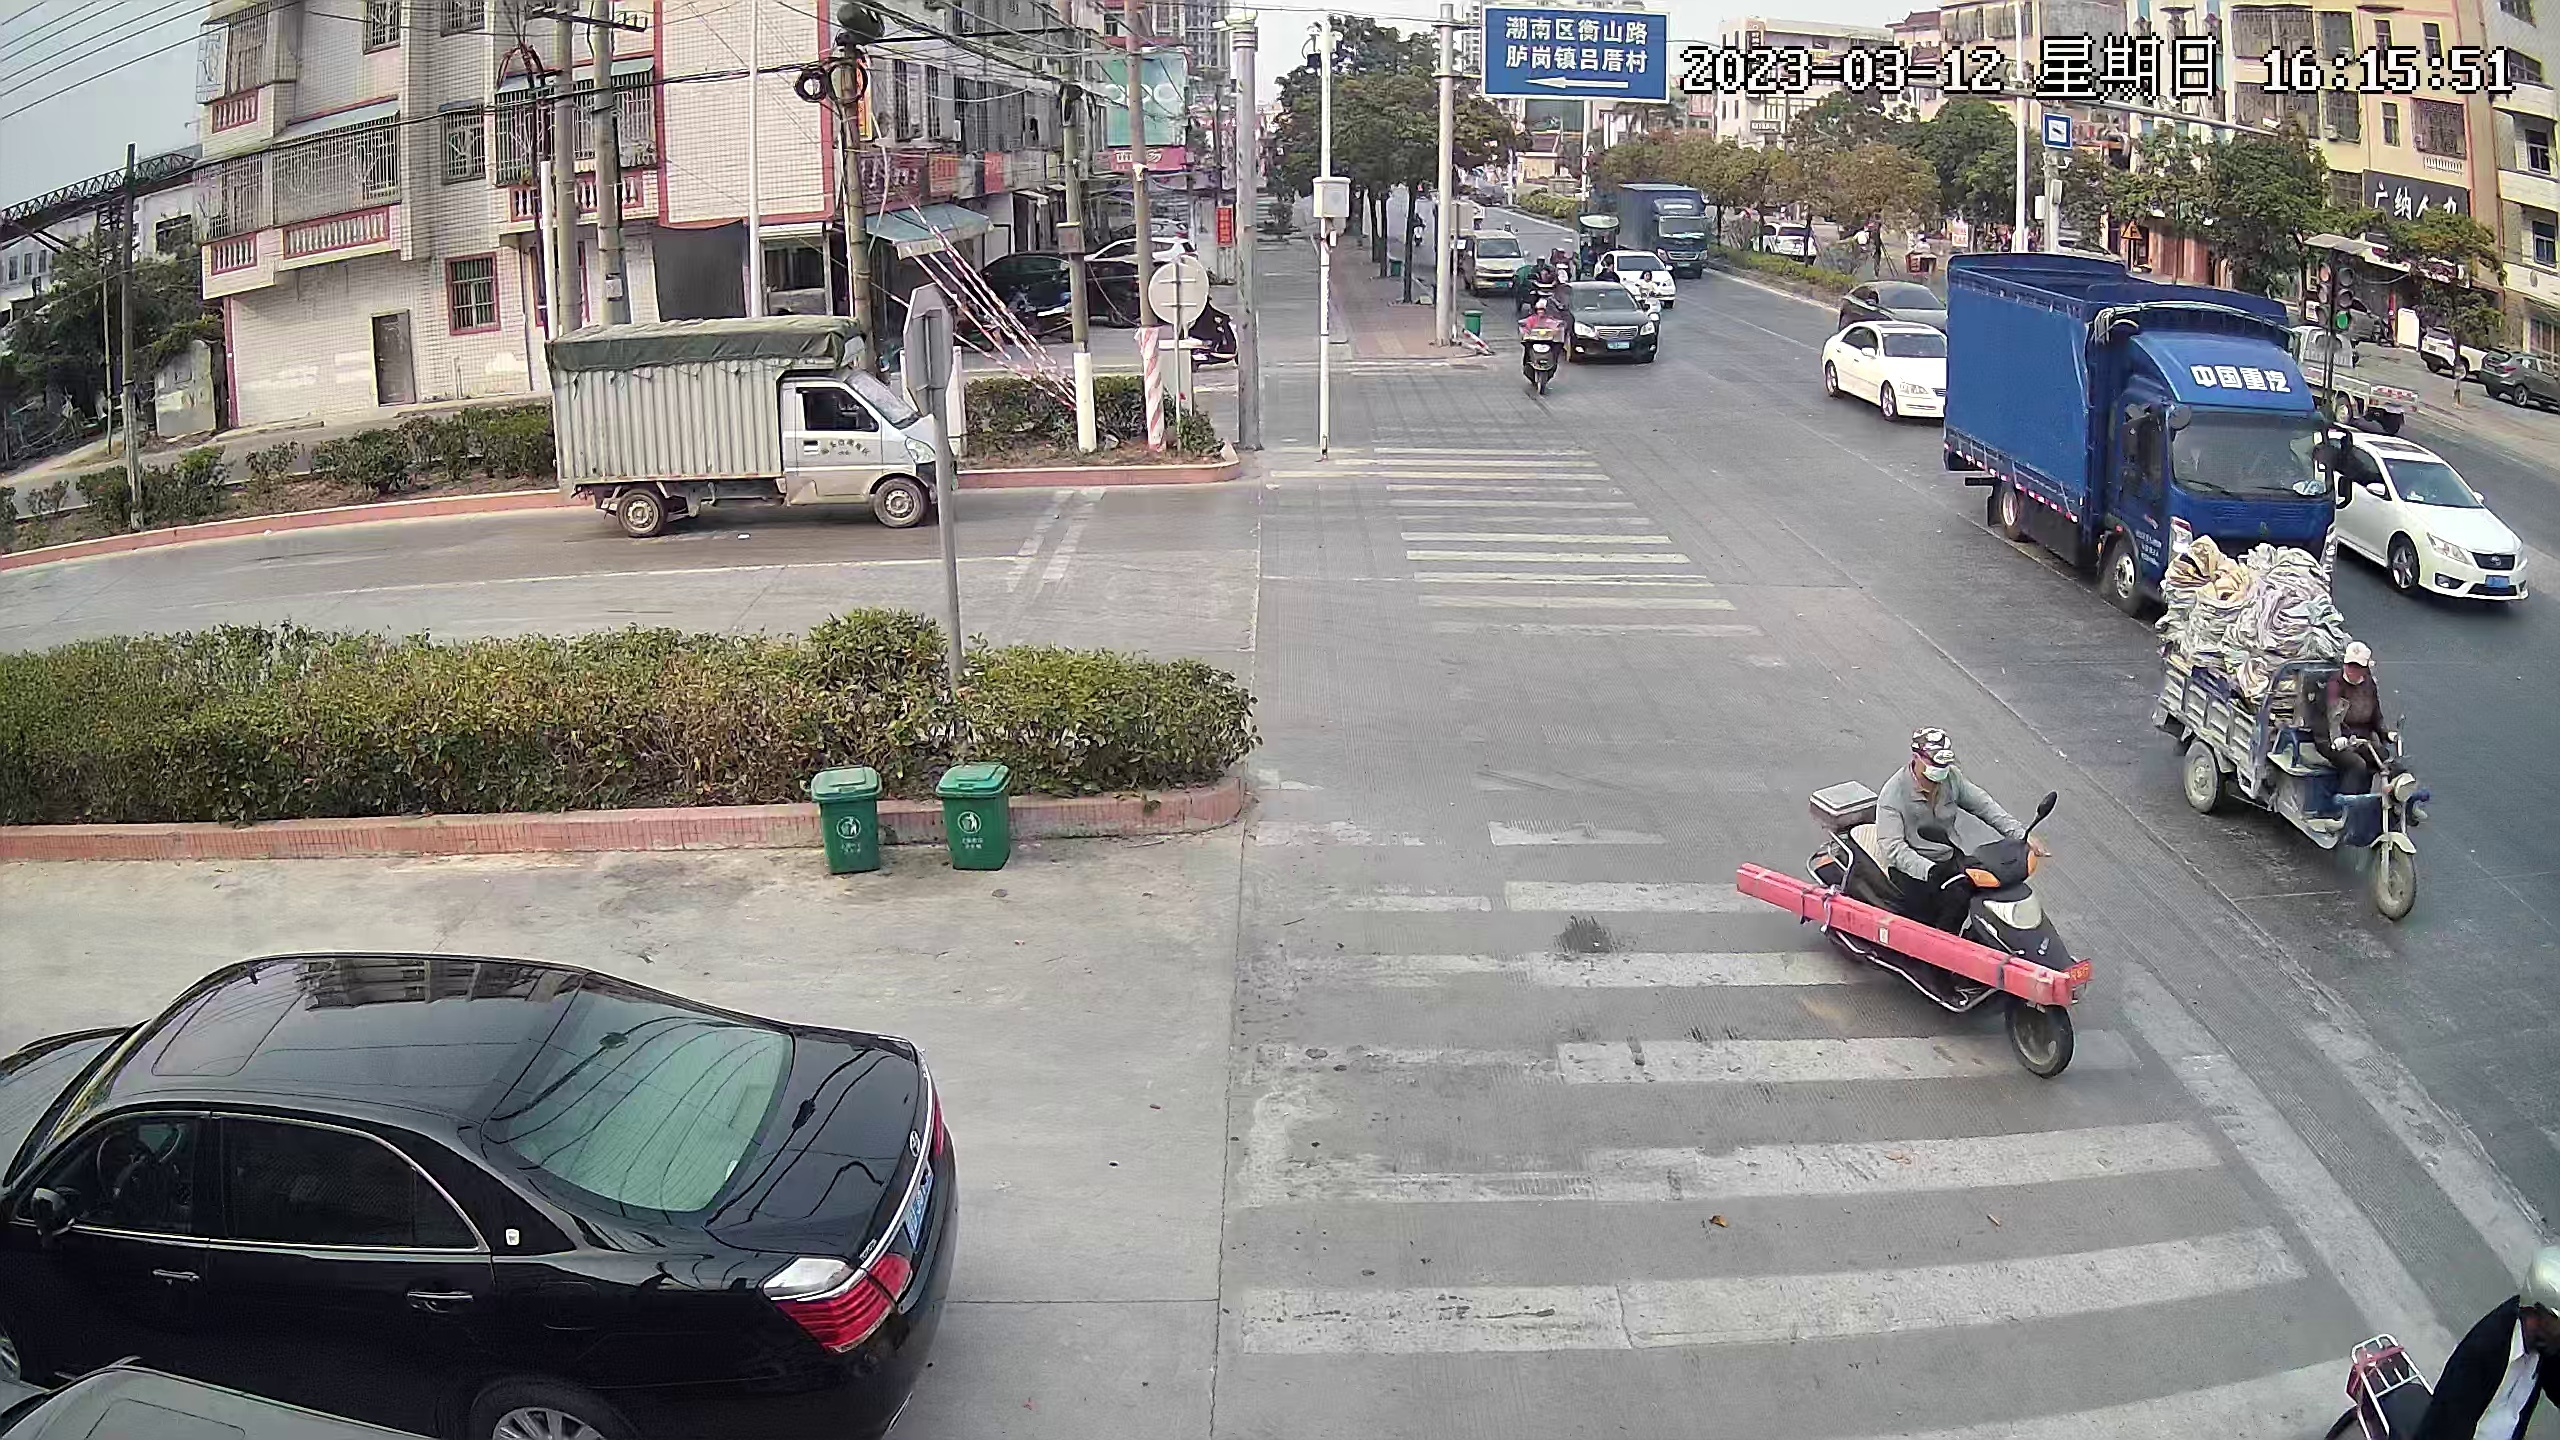head: (1893, 710, 1974, 838), (2338, 642, 2379, 727)
motorcycle: (1797, 720, 2099, 1094), (1515, 299, 1569, 400), (995, 299, 1079, 344), (1189, 303, 1237, 367), (1522, 252, 1554, 295), (1410, 212, 1430, 254)
sedan: (1, 952, 965, 1419), (2329, 424, 2534, 608), (1823, 317, 1952, 419), (1573, 285, 1652, 367), (1082, 257, 1144, 330), (2305, 288, 2384, 343), (1599, 252, 1675, 298), (997, 250, 1055, 293), (1098, 244, 1199, 267)
suv: (1845, 278, 1949, 340), (2484, 350, 2560, 414), (2427, 319, 2475, 392), (1752, 217, 1819, 267)
tricycle: (2164, 543, 2432, 918), (1572, 208, 1610, 269)
truck: (1947, 250, 2335, 587), (530, 324, 950, 530), (2292, 319, 2423, 435), (1622, 183, 1708, 273)
van: (1468, 227, 1519, 298)
